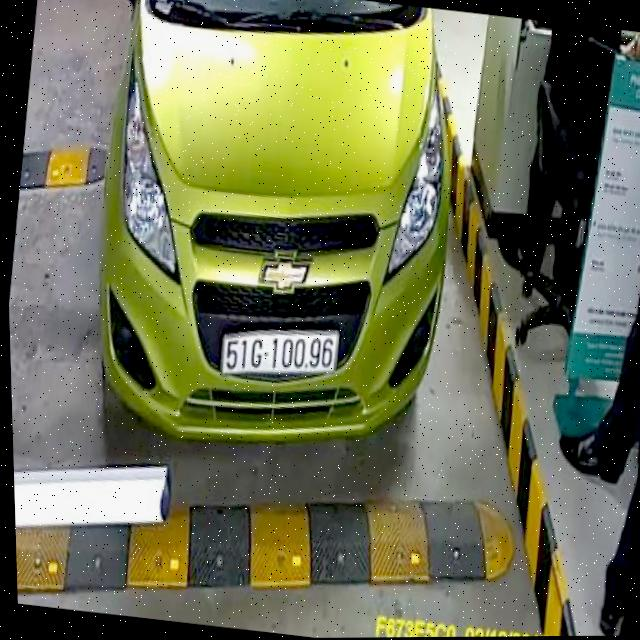car: (32, 0, 504, 479)
plate: (210, 318, 350, 391)
